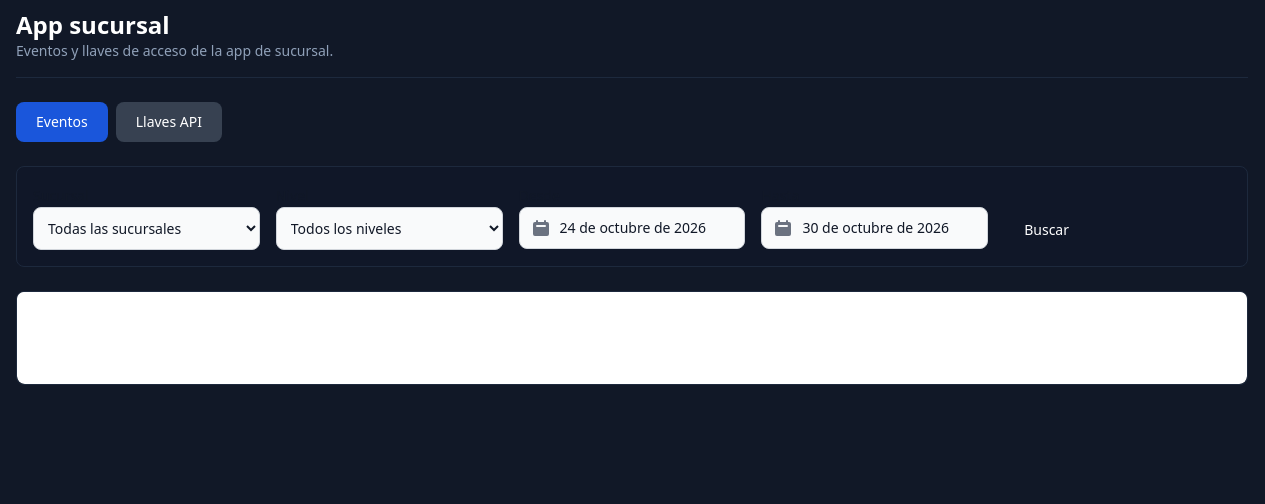
it: DiagnosticsPage › switches to the api keys view
Click the button "Llaves API": (169, 122) [116,102,222,142]
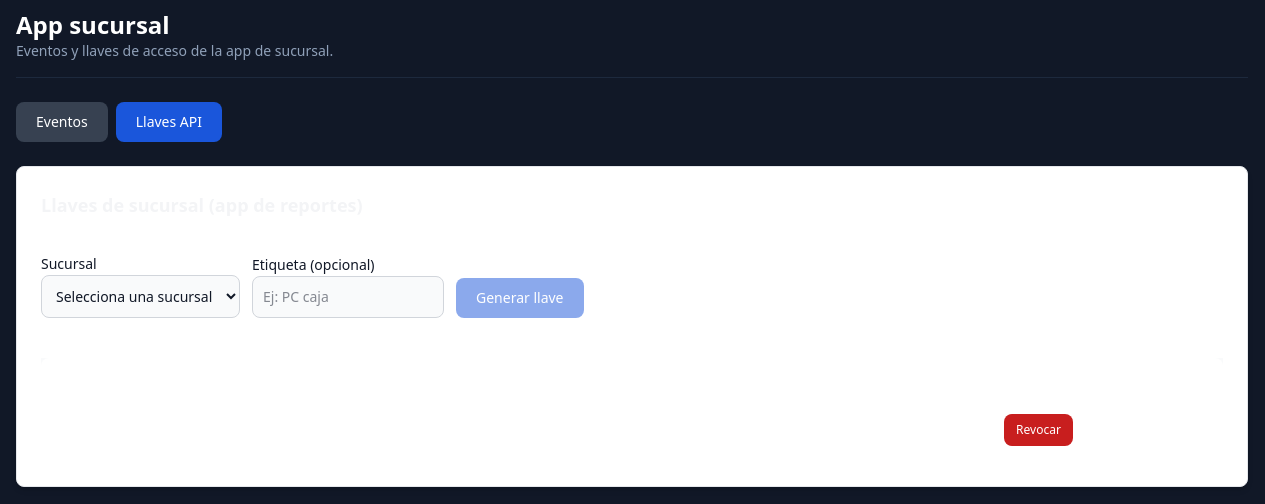
Expected: the text "missing_categories" is gone
